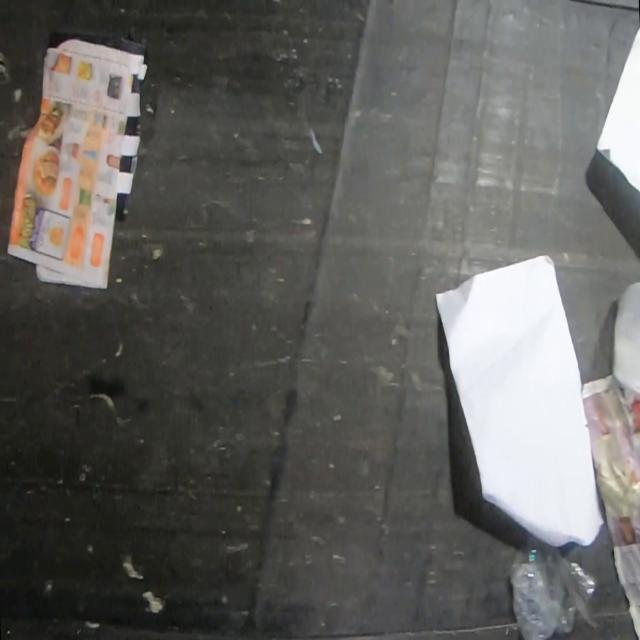rigid_plastic: (509, 532, 601, 640)
soft_plastic: (610, 282, 640, 398)
